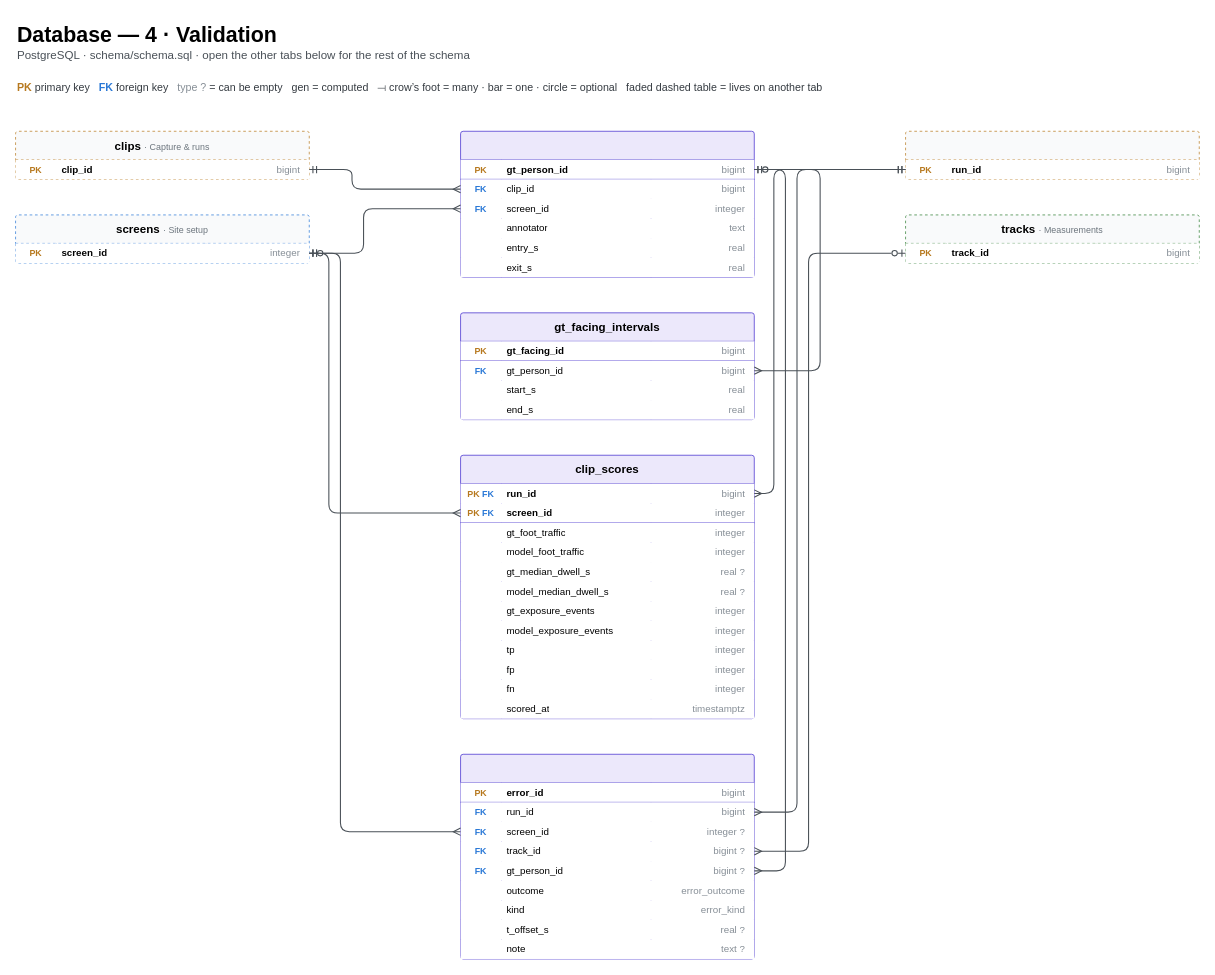
Image size: 1215x975. Some labels were removed from this diagram. The shapes that lost their labels are listed below. From the top down, each one's box as (x1, y1, x2, y2) in pixels, then its label:
(905, 130, 1199, 179): runs · Capture & runs
(460, 130, 754, 277): gt_persons
(460, 753, 754, 959): error_tags
